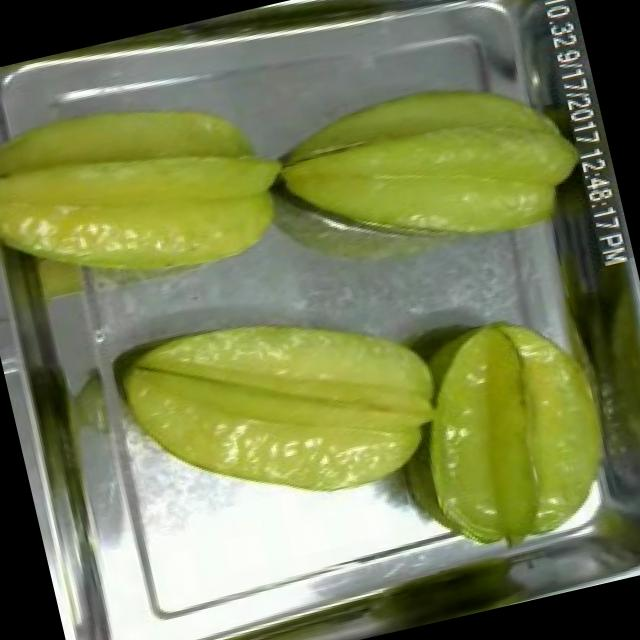fruit: (100, 266, 468, 542), (0, 45, 314, 326), (249, 41, 601, 288), (384, 285, 640, 577)
